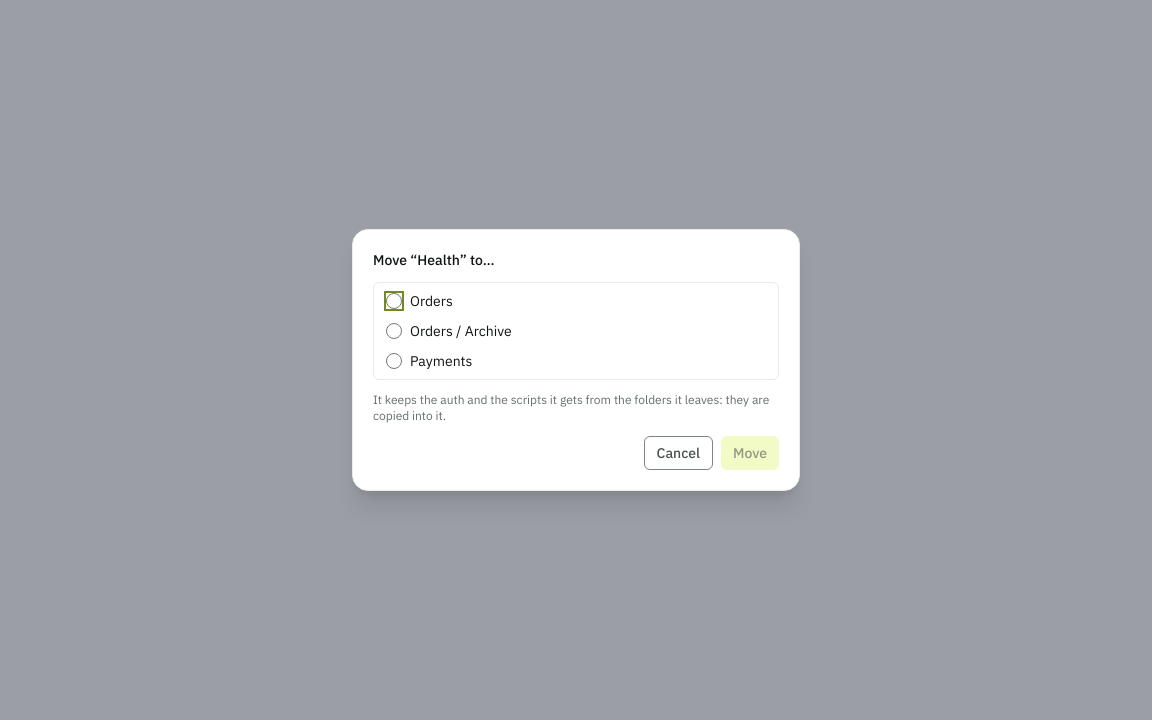
Test: MoveItemDialog › shows the run-twice warning as an alert, in text
What coordinates should you click on to do the following:
click the radio button labelled "Orders"
I would click on:
 (394, 301)
Its box is [386, 293, 402, 309].
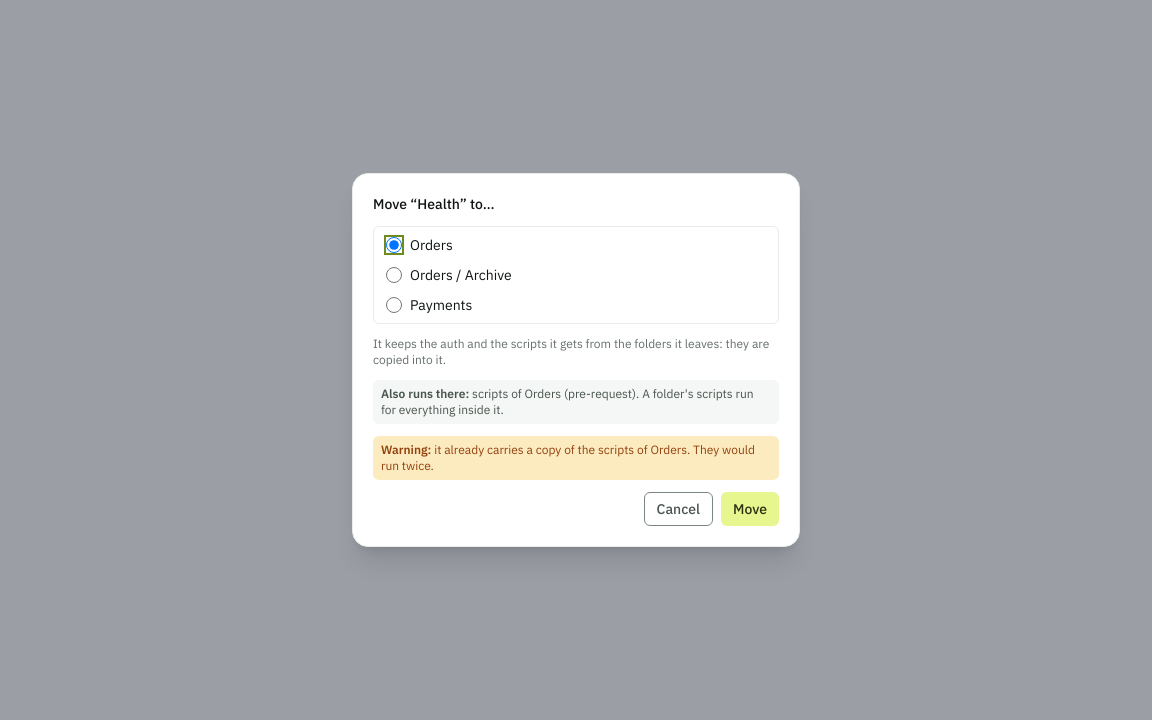
Now the message shows "Warning: it already carries a copy of the scripts of Orders. They would run twice.", box [373, 436, 779, 480]
